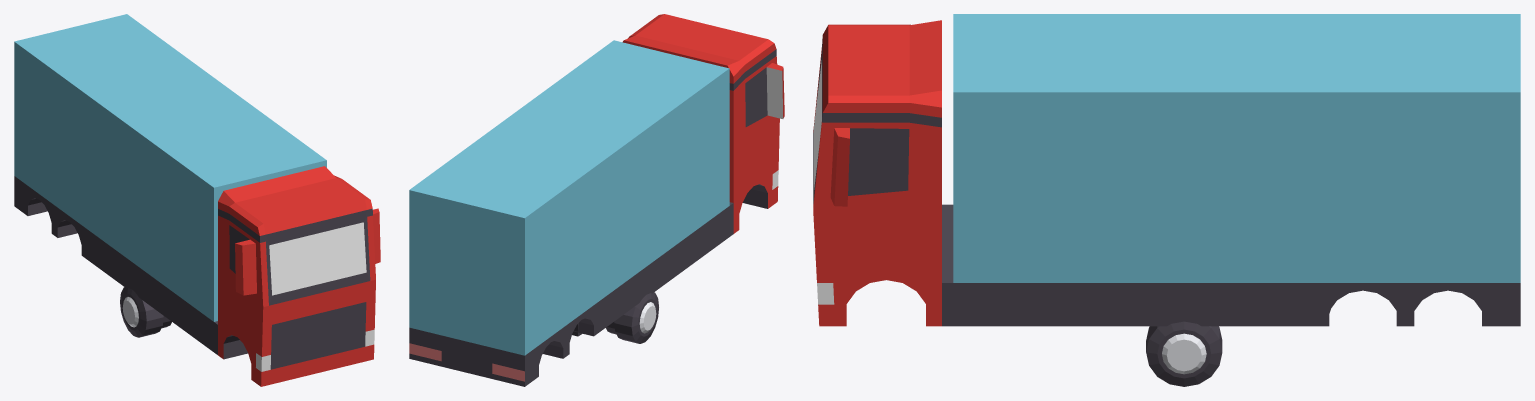
Rendered from Car_03.fbx.
The picture shows the model from 3 angles, left to right: view 1: azimuth 30°, elevation 25°; view 2: azimuth 150°, elevation 25°; view 3: azimuth 270°, elevation 25°; orthographic projection. The views are drawn at different scales.
Parts seen in each view (by area): view 1: LKW, weels_LKW_01; view 2: LKW, weels_LKW_01; view 3: LKW, weels_LKW_01.
Part boxes in pixels (left/top/right/bottom): LKW: left=14, top=14, right=380, bottom=386; weels_LKW_01: left=120, top=287, right=163, bottom=337; LKW: left=409, top=14, right=784, bottom=386; weels_LKW_01: left=614, top=292, right=658, bottom=343; LKW: left=813, top=14, right=1520, bottom=326; weels_LKW_01: left=1146, top=321, right=1222, bottom=386.
Bounding box in the file's own units: 224 × 310 × 674.
